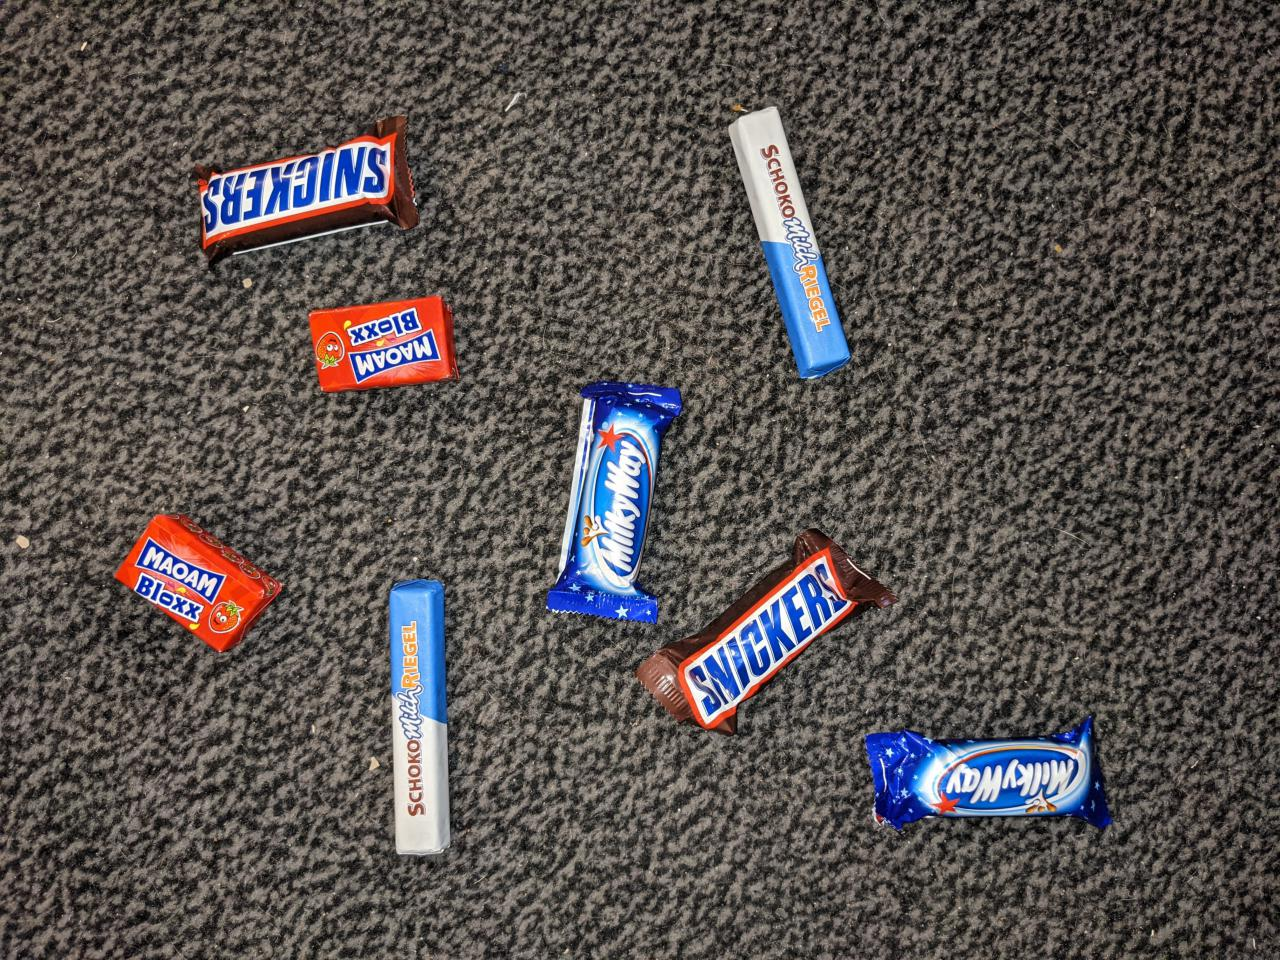MAOAM: (107, 508, 286, 659), (304, 292, 462, 400)
MilkyWay: (534, 379, 699, 629), (857, 708, 1118, 839)
Schokoriegel: (720, 100, 856, 383), (383, 575, 455, 861)
Snickers: (628, 520, 904, 742), (183, 109, 424, 273)
